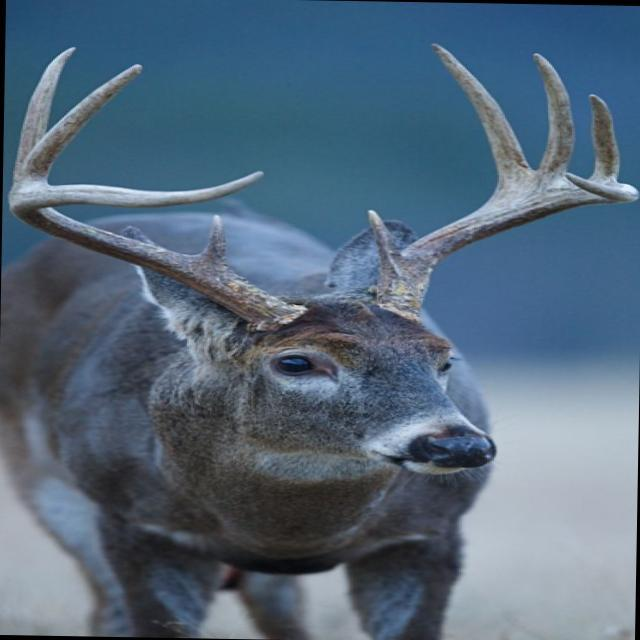L-F: (366, 173, 639, 322)
L-G1: (366, 208, 401, 265)
L-G2: (430, 42, 532, 176)
L-G3: (531, 52, 574, 174)
L-G4: (587, 93, 620, 183)
R-F: (9, 170, 305, 329)
R-G1: (195, 214, 227, 266)
R-G2: (9, 44, 78, 194)
R-G3: (9, 63, 144, 205)
